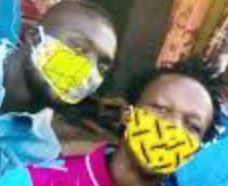with_facemask: (28, 34, 115, 108), (125, 105, 194, 176)
